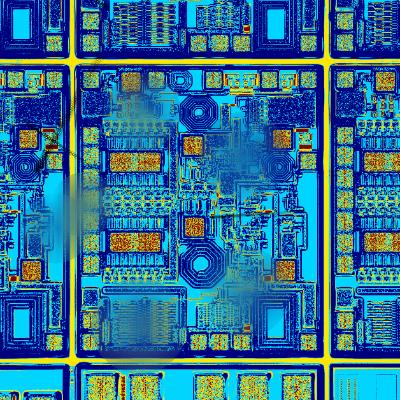Die: (75, 64, 325, 358)
Pad 1: (137, 233, 160, 251), (138, 153, 160, 171), (110, 233, 132, 251), (111, 153, 132, 171), (276, 261, 295, 280), (122, 72, 140, 92), (185, 218, 204, 236), (184, 137, 202, 155), (273, 130, 291, 148)
Pad 2: (83, 189, 99, 209), (83, 233, 99, 252), (83, 211, 99, 230), (83, 255, 99, 273), (83, 147, 99, 165), (83, 169, 99, 187), (83, 127, 99, 144), (83, 72, 99, 88), (206, 72, 222, 88), (83, 334, 99, 350), (148, 72, 164, 88), (234, 334, 250, 350), (212, 334, 228, 350), (191, 334, 207, 350), (301, 334, 317, 350), (301, 72, 316, 88), (262, 72, 277, 88), (83, 313, 99, 328), (301, 154, 316, 169)
